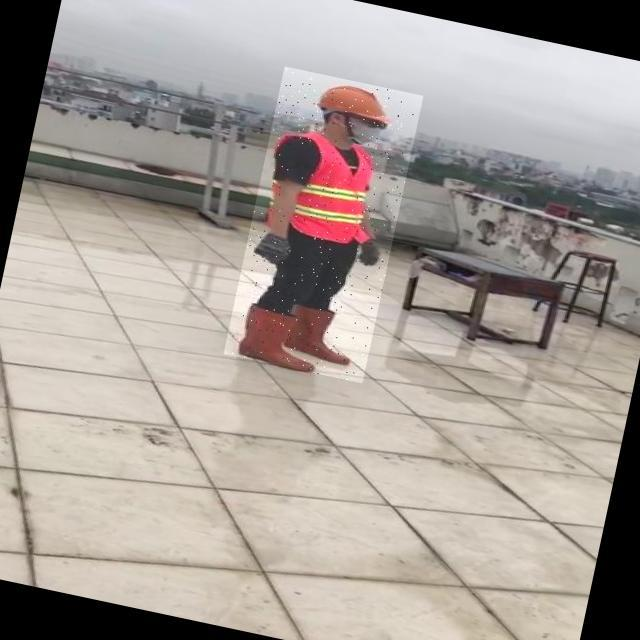Gloves: (254, 231, 292, 268), (355, 239, 382, 270)
Helmet: (312, 78, 398, 124)
Human: (223, 66, 423, 383)
Safety Boot: (233, 303, 322, 372), (281, 294, 360, 365)
Safety Vest: (261, 127, 393, 246)
